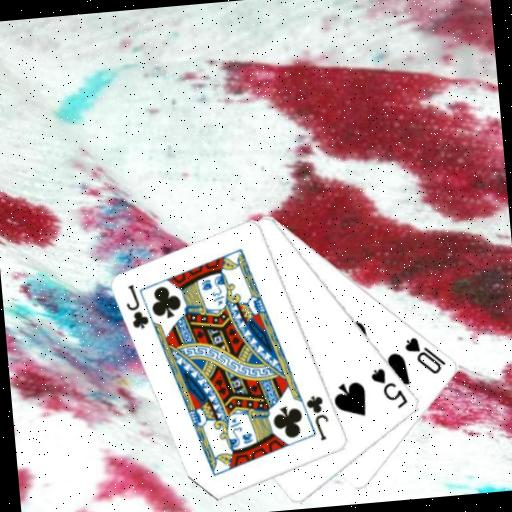10S: (400, 331, 449, 379)
5S: (367, 363, 411, 412)
JC: (303, 391, 334, 444), (121, 280, 152, 333)
